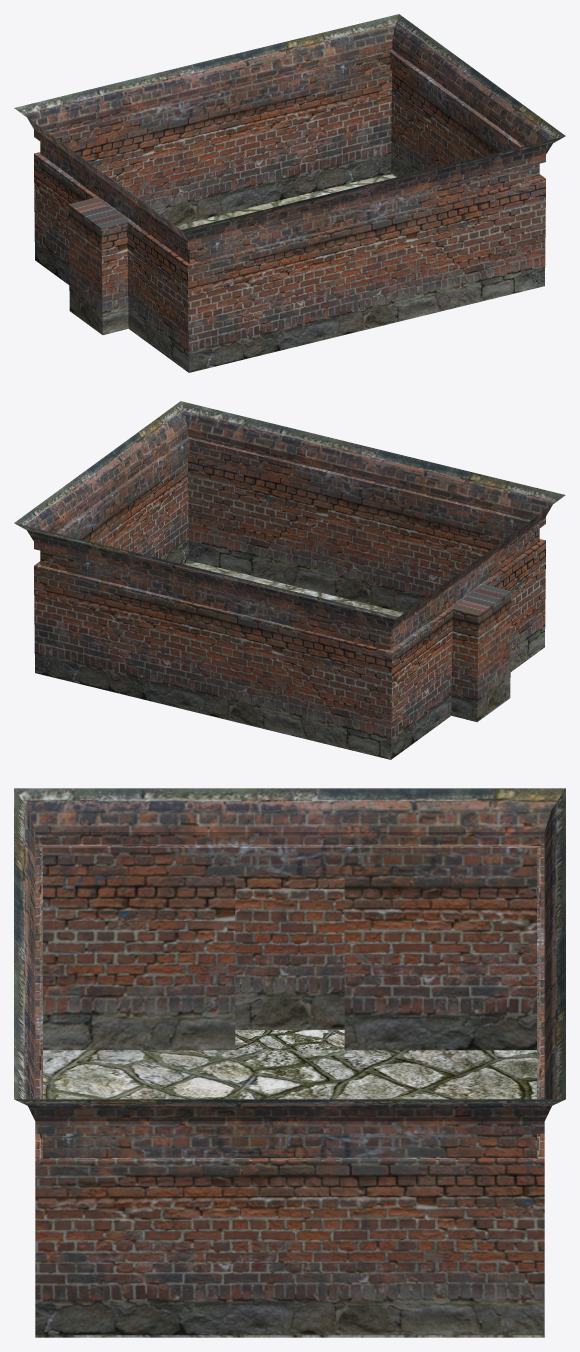
The model's file is RoomRightDoor.fbx.
3 views of the same model, one above another, from view 1: azimuth 30°, elevation 25°; view 2: azimuth 150°, elevation 25°; view 3: azimuth 270°, elevation 25° (orthographic). The views are drawn at different scales.
Parts seen in each view (by area): view 1: RoomRightDoor; view 2: RoomRightDoor; view 3: RoomRightDoor.
Part boxes in pixels (x1,y1,x2,y2): RoomRightDoor: [14, 14, 565, 372]; RoomRightDoor: [14, 401, 565, 759]; RoomRightDoor: [14, 788, 565, 1337].
Bounding box in the file's own units: 826 × 301 × 600.
